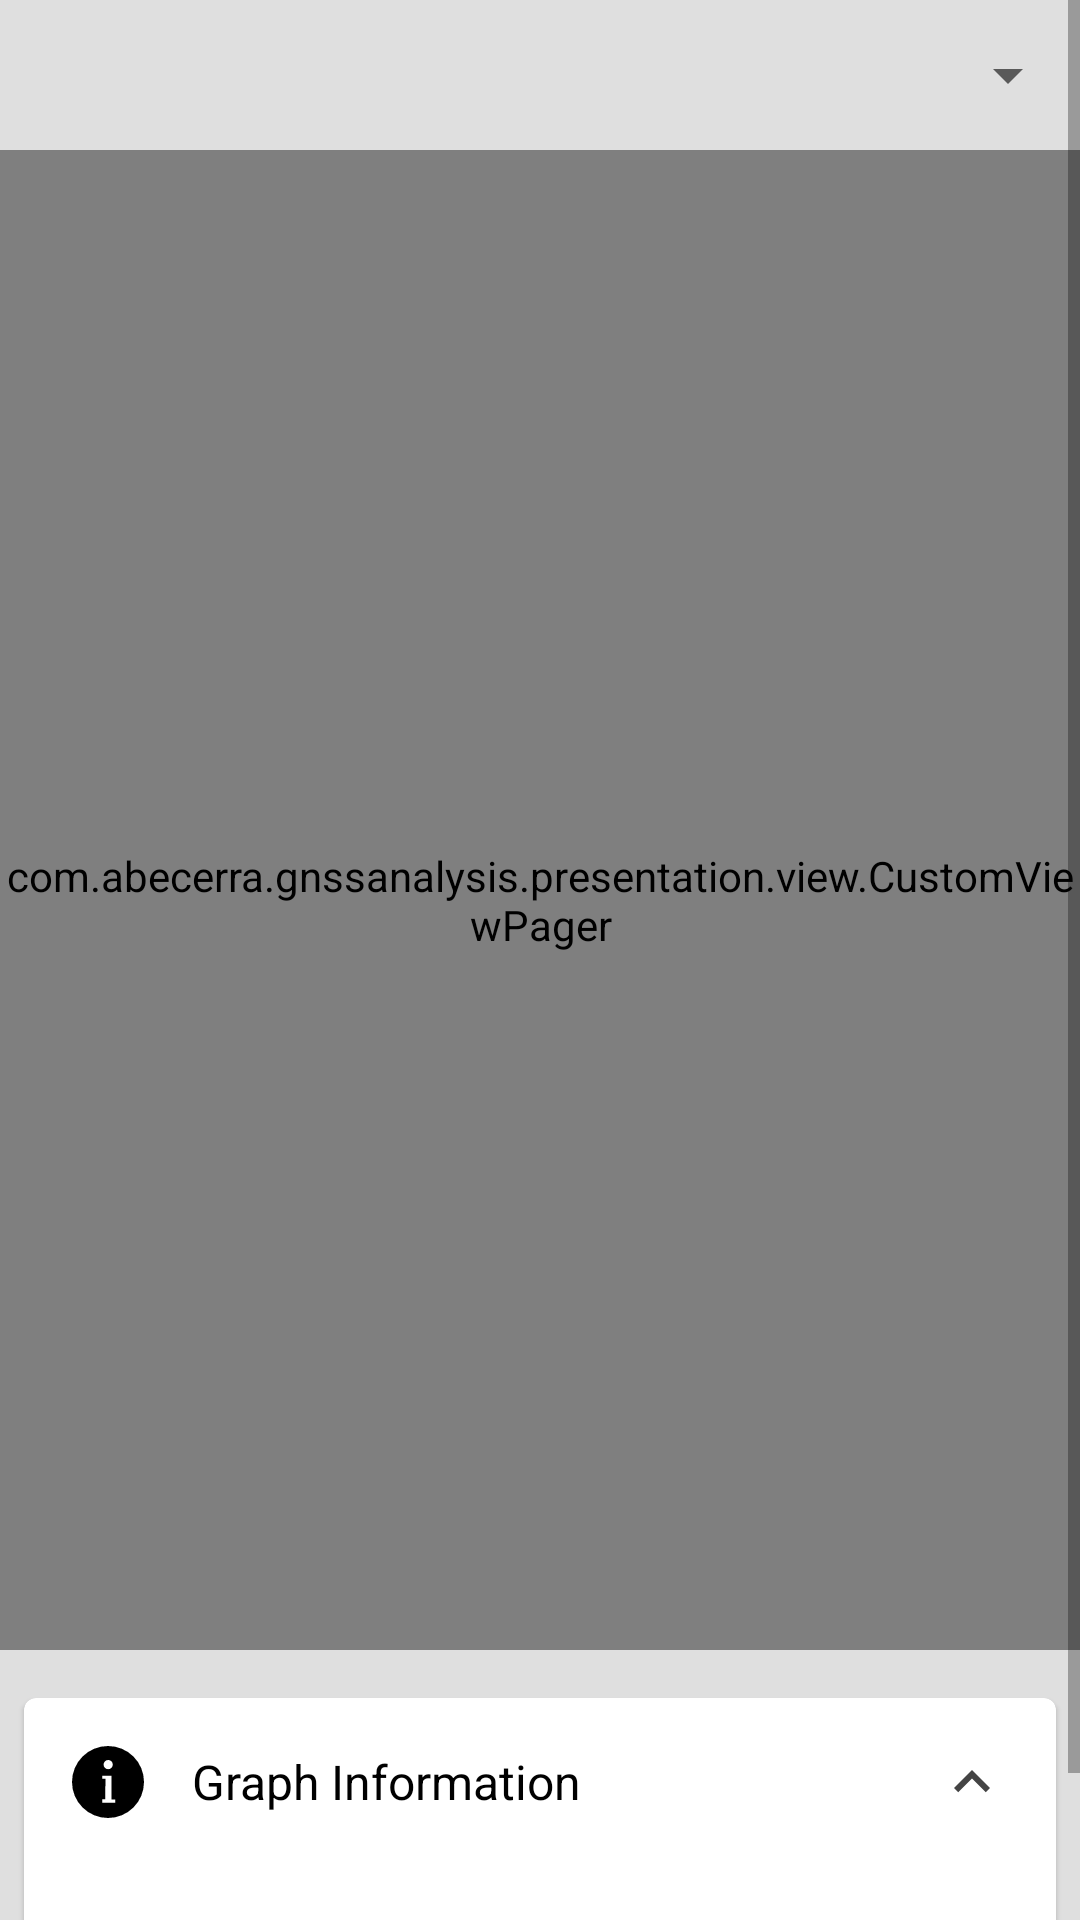

Icons on this 1080*1920 Android screen, each with its box as bbox=[x1, y1, x2, y2]:
arrow up: bbox=[954, 1770, 990, 1792]
